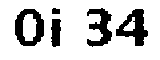0: (13, 6, 46, 49)
3: (84, 5, 114, 50)
4: (116, 6, 151, 48)
i: (50, 4, 64, 52)
